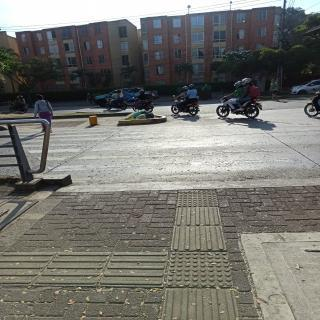Garbage: (143, 111, 154, 119), (134, 109, 145, 117), (136, 114, 146, 119)
